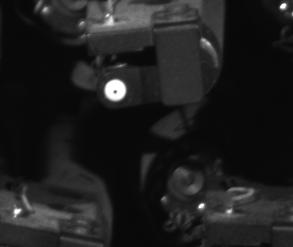fiber: (101, 76, 132, 106)
